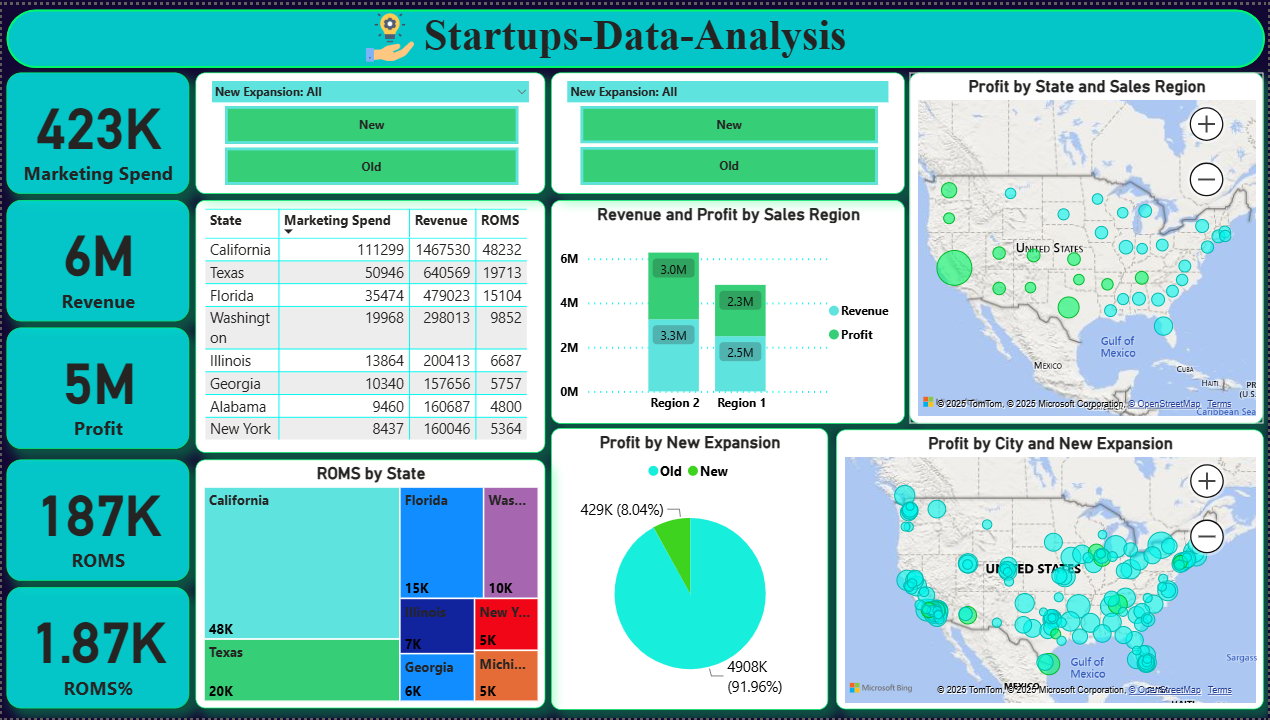

What the dashboard file says about the page in this screenshot:
{"tool":"powerbi","page":{"name":"Home","canvas":[1280,720],"ordinal":0},"visuals":[{"type":"shape","box":[4.5,4.5,1271.2,59.1],"z":0},{"type":"textbox","box":[292.5,0,694.6,63.6],"z":1000},{"type":"card","fields":{"Values":["Sum(startups-expansion-modified.Marketing Spend)"]},"box":[4.8,68.3,184.4,122.4],"z":2000},{"type":"card","fields":{"Values":["Sum(startups-expansion-modified.Revenue)"]},"box":[4.8,197.1,184.4,122.4],"z":3000},{"type":"card","fields":{"Values":["Sum(startups-expansion-modified.Profit)"]},"box":[4.8,325.8,184.4,122.4],"z":4000},{"type":"card","fields":{"Values":["Sum(startups-expansion-modified.ROMS)"]},"box":[4.8,459.3,184.4,122.4],"z":5000},{"type":"card","fields":{"Values":["Sum(startups-expansion-modified.ROMS%)"]},"box":[4.8,588.1,184.4,122.4],"z":6000},{"type":"tableEx","fields":{"Values":["startups-expansion-modified.State","Sum(startups-expansion-modified.Marketing Spend)","Sum(startups-expansion-modified.Revenue)","Sum(startups-expansion-modified.ROMS)"]},"box":[194.7,196.6,353.6,255],"z":7000},{"type":"columnChart","fields":{"Category":["startups-expansion-modified.Sales Region"],"Y":["Sum(startups-expansion-modified.Revenue)","Sum(startups-expansion-modified.Profit)"]},"box":[554.7,197.1,357.6,225.7],"z":8000},{"type":"slicer","title":"New Expansion","fields":{"Values":["startups-expansion-modified.New Expansion"]},"box":[194.7,68.1,353.6,122.9],"z":9000},{"type":"slicer","title":"New Expansion","fields":{"Values":["startups-expansion-modified.New Expansion"]},"box":[554.7,68.3,357.6,122.4],"z":10000},{"type":"pieChart","fields":{"Category":["startups-expansion-modified.New Expansion"],"Y":["Sum(startups-expansion-modified.Profit)"]},"box":[554.7,427.5,279.7,284.5],"z":11000},{"type":"treemap","fields":{"Group":["startups-expansion-modified.State"],"Values":["Sum(startups-expansion-modified.ROMS)"]},"box":[194.7,459.4,353.6,251.5],"z":12000},{"type":"image","box":[354.5,1.5,74.2,62.1],"z":13000},{"type":"map","fields":{"Size":["Sum(startups-expansion-modified.Profit)"],"Category":["startups-expansion-modified.State"],"Series":["startups-expansion-modified.Sales Region"]},"box":[917.1,68.3,357.6,354.4],"z":14000},{"type":"map","fields":{"Size":["Sum(startups-expansion-modified.Profit)"],"Category":["startups-expansion-modified.City"],"Series":["startups-expansion-modified.New Expansion"]},"box":[842.4,429.1,432.3,282.9],"z":15000}]}

Visuals, with their boxes in screenshot pixels (x1, y1, x2, y2), scaled from the page's 1280x720 canvas onto the 1270x720 screenshot:
shape: [4, 4, 1266, 64]
textbox: [290, 0, 979, 64]
card - Sum(startups-expansion-modified.Marketing Spend): [5, 68, 188, 191]
card - Sum(startups-expansion-modified.Revenue): [5, 197, 188, 320]
card - Sum(startups-expansion-modified.Profit): [5, 326, 188, 448]
card - Sum(startups-expansion-modified.ROMS): [5, 459, 188, 582]
card - Sum(startups-expansion-modified.ROMS%): [5, 588, 188, 710]
tableEx - startups-expansion-modified.State x Sum(startups-expansion-modified.Marketing Spend): [193, 197, 544, 452]
columnChart - startups-expansion-modified.Sales Region x Sum(startups-expansion-modified.Revenue): [550, 197, 905, 423]
"New Expansion" slicer: [193, 68, 544, 191]
"New Expansion" slicer: [550, 68, 905, 191]
pieChart - startups-expansion-modified.New Expansion x Sum(startups-expansion-modified.Profit): [550, 428, 828, 712]
treemap - startups-expansion-modified.State x Sum(startups-expansion-modified.ROMS): [193, 459, 544, 711]
image: [352, 2, 425, 64]
map - Sum(startups-expansion-modified.Profit) x startups-expansion-modified.State: [910, 68, 1265, 423]
map - Sum(startups-expansion-modified.Profit) x startups-expansion-modified.City: [836, 429, 1265, 712]
